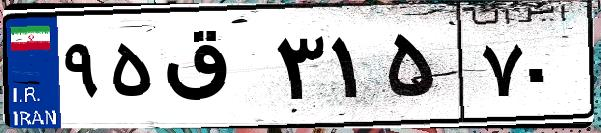0: (525, 38, 570, 115)
1: (330, 28, 385, 110)
3: (270, 28, 330, 110)
5: (385, 28, 445, 110), (110, 28, 158, 98)
7: (475, 38, 525, 113)
9: (57, 26, 110, 100)
ق: (158, 20, 270, 120)
